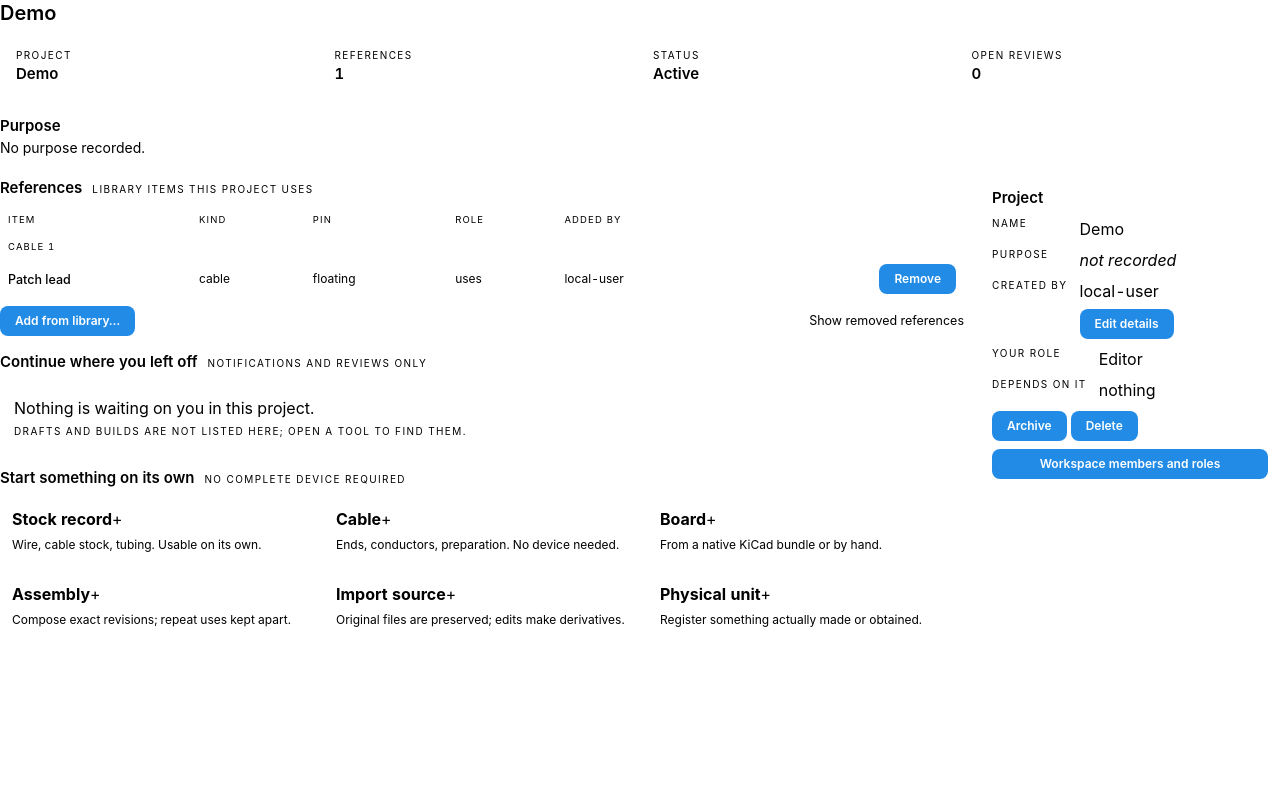
Test: removing a reference asks for a reason and leaves the item in the library
Click the button with aria-label "Remove reference to Patch lead": click(918, 280) [879,264,956,294]
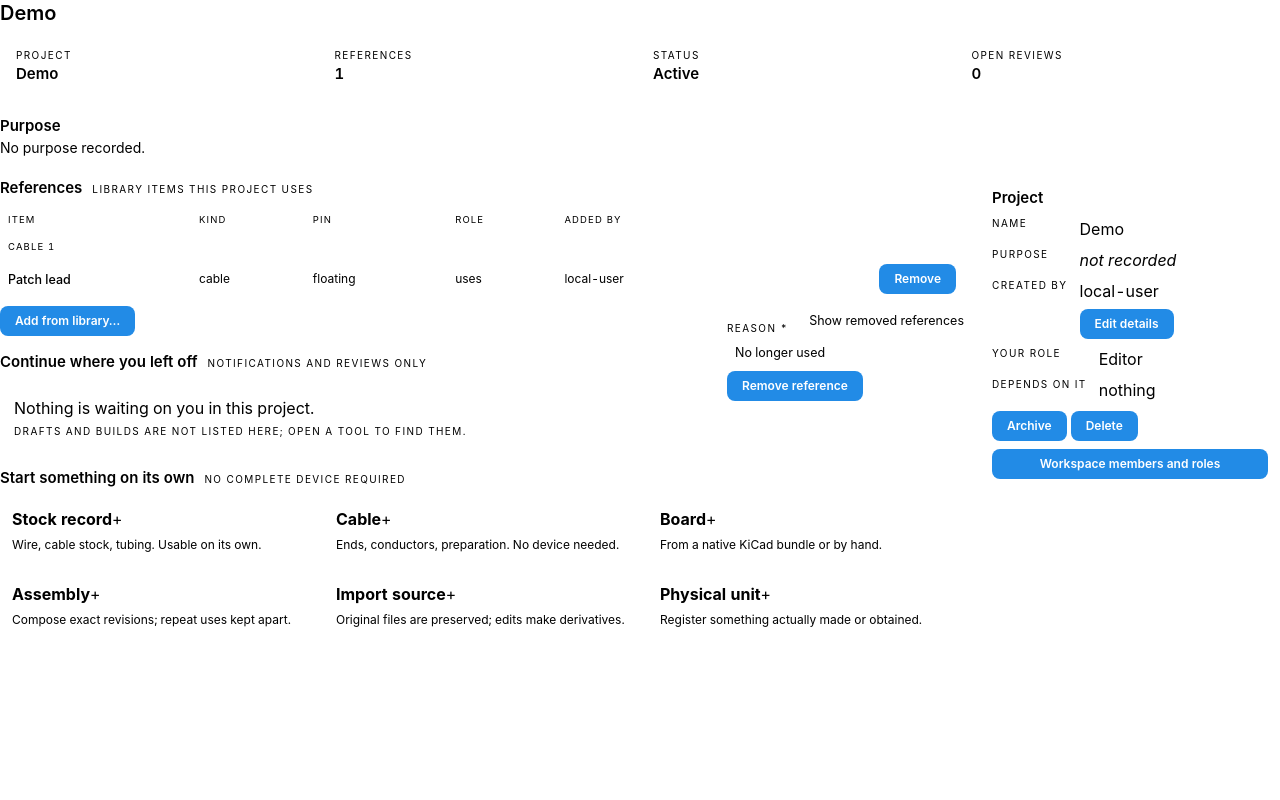
Click the button "Remove reference": click(795, 386) [727,371,863,401]
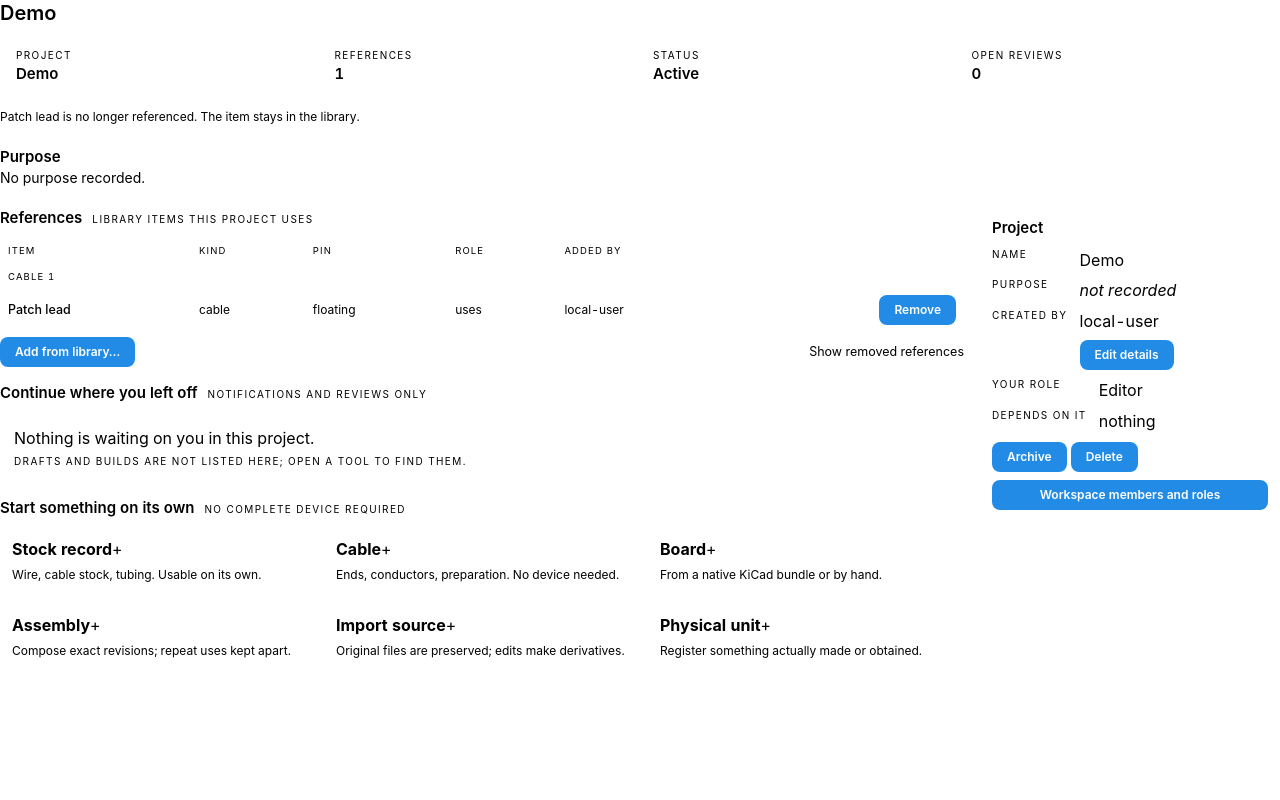
Check: the text "Patch lead is no longer referenced. The item stays in the library." is shown, box [0,109,360,124]
